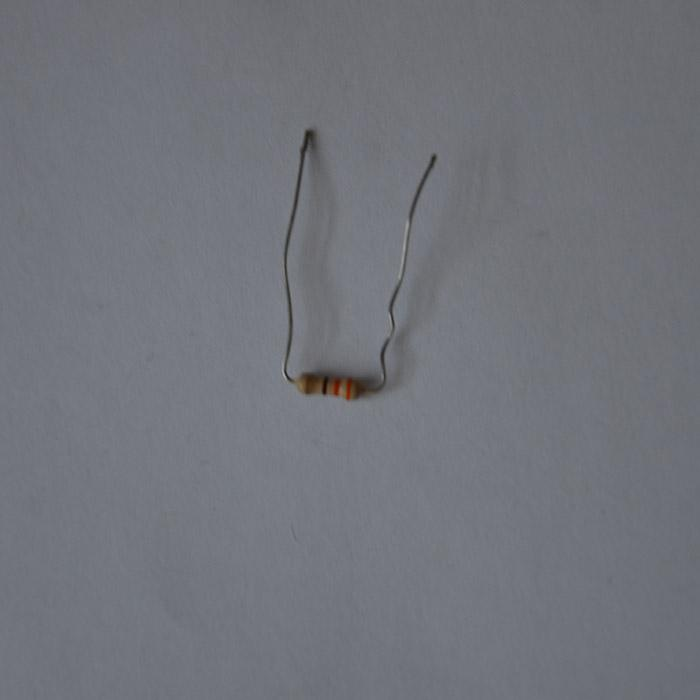resistor: (292, 370, 364, 400)
